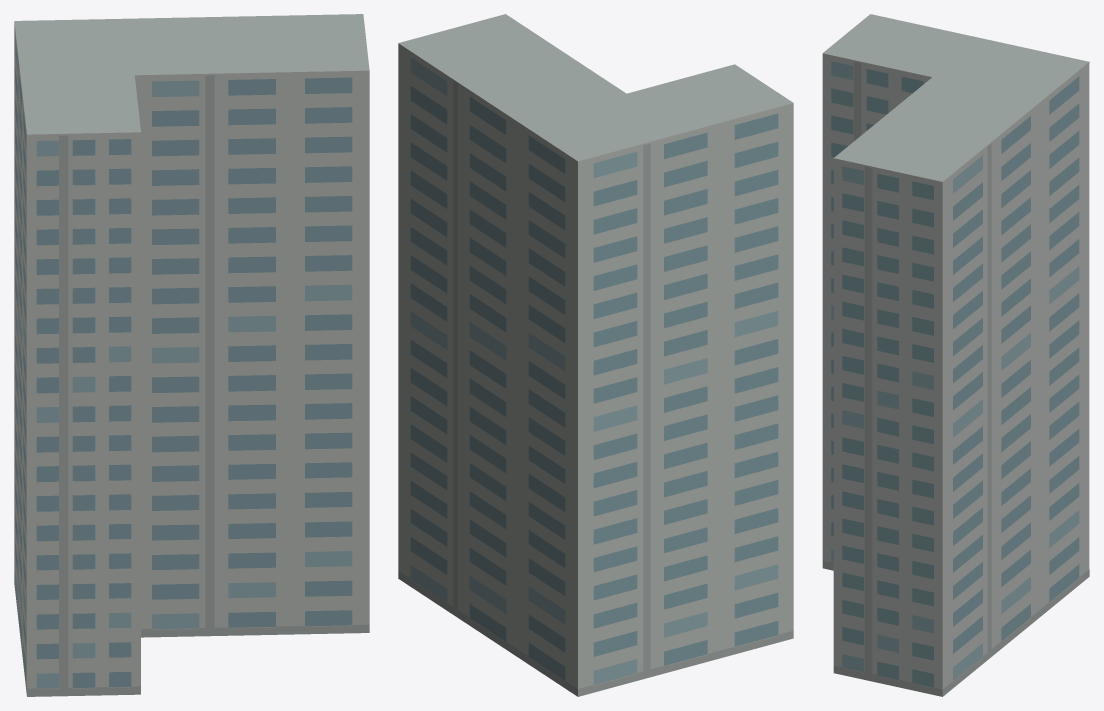
The model's file is residential-19e07ebe-5956-4d7d-bf77-e669bfc5587e.glb.
3 renders of one model, left to right at view 1: azimuth 30°, elevation 25°; view 2: azimuth 150°, elevation 25°; view 3: azimuth 270°, elevation 25°, orthographic. The views are drawn at different scales.
Parts seen in each view (by area): view 1: residential-19e07ebe-5956-4d7d-bf77-e669bfc5587e.tmp; view 2: residential-19e07ebe-5956-4d7d-bf77-e669bfc5587e.tmp; view 3: residential-19e07ebe-5956-4d7d-bf77-e669bfc5587e.tmp.
Part boxes in pixels (x1=…): residential-19e07ebe-5956-4d7d-bf77-e669bfc5587e.tmp: x1=14, y1=14, x2=369, y2=696; residential-19e07ebe-5956-4d7d-bf77-e669bfc5587e.tmp: x1=398, y1=14, x2=793, y2=696; residential-19e07ebe-5956-4d7d-bf77-e669bfc5587e.tmp: x1=822, y1=14, x2=1089, y2=696.
Bounding box in the file's own units: 55.96 × 80 × 37.59.
